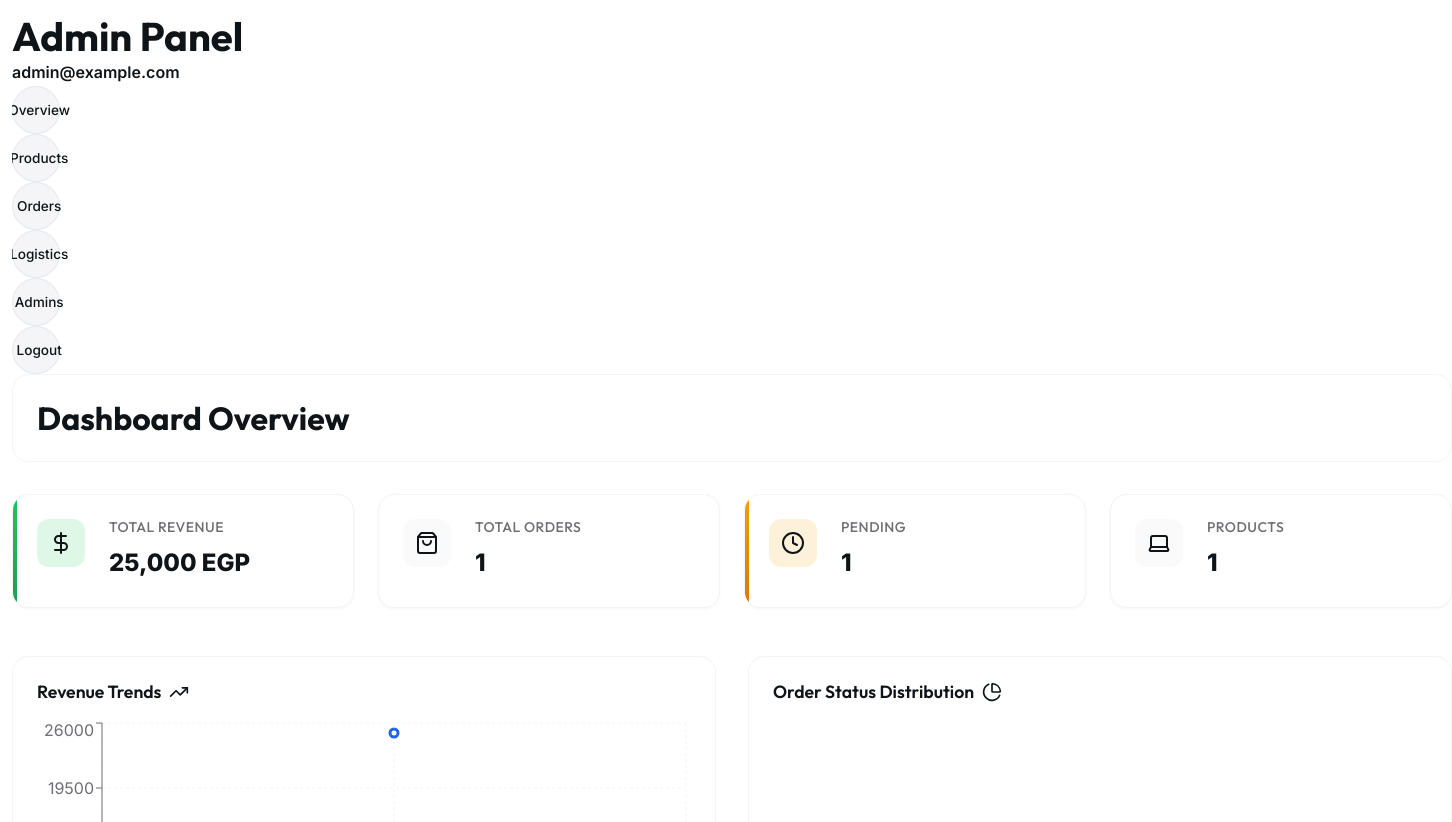
Test case: AdminDashboard Page › should switch tabs
Expected: the heading "Dashboard Overview" is shown, [37,398,350,438]
Click Products Tab (Using Regex for robustness against whitespace/icons)
Click the button "Products" at x=36, y=158, box [12,134,60,182]
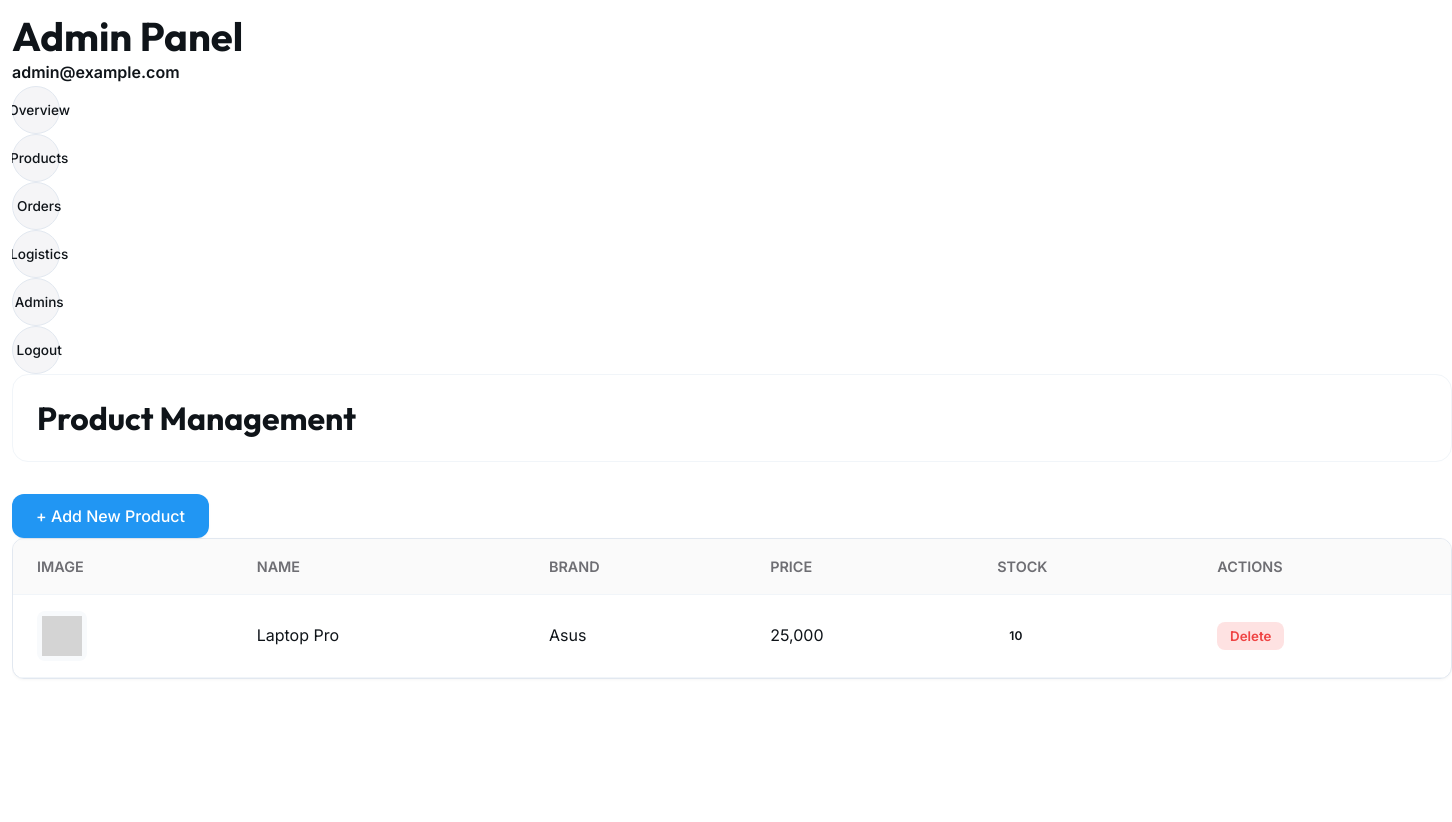
Expected: the heading "Product Management" is shown, [37,398,356,438]
Expected: the text "Laptop Pro" is shown, [233,594,525,678]
